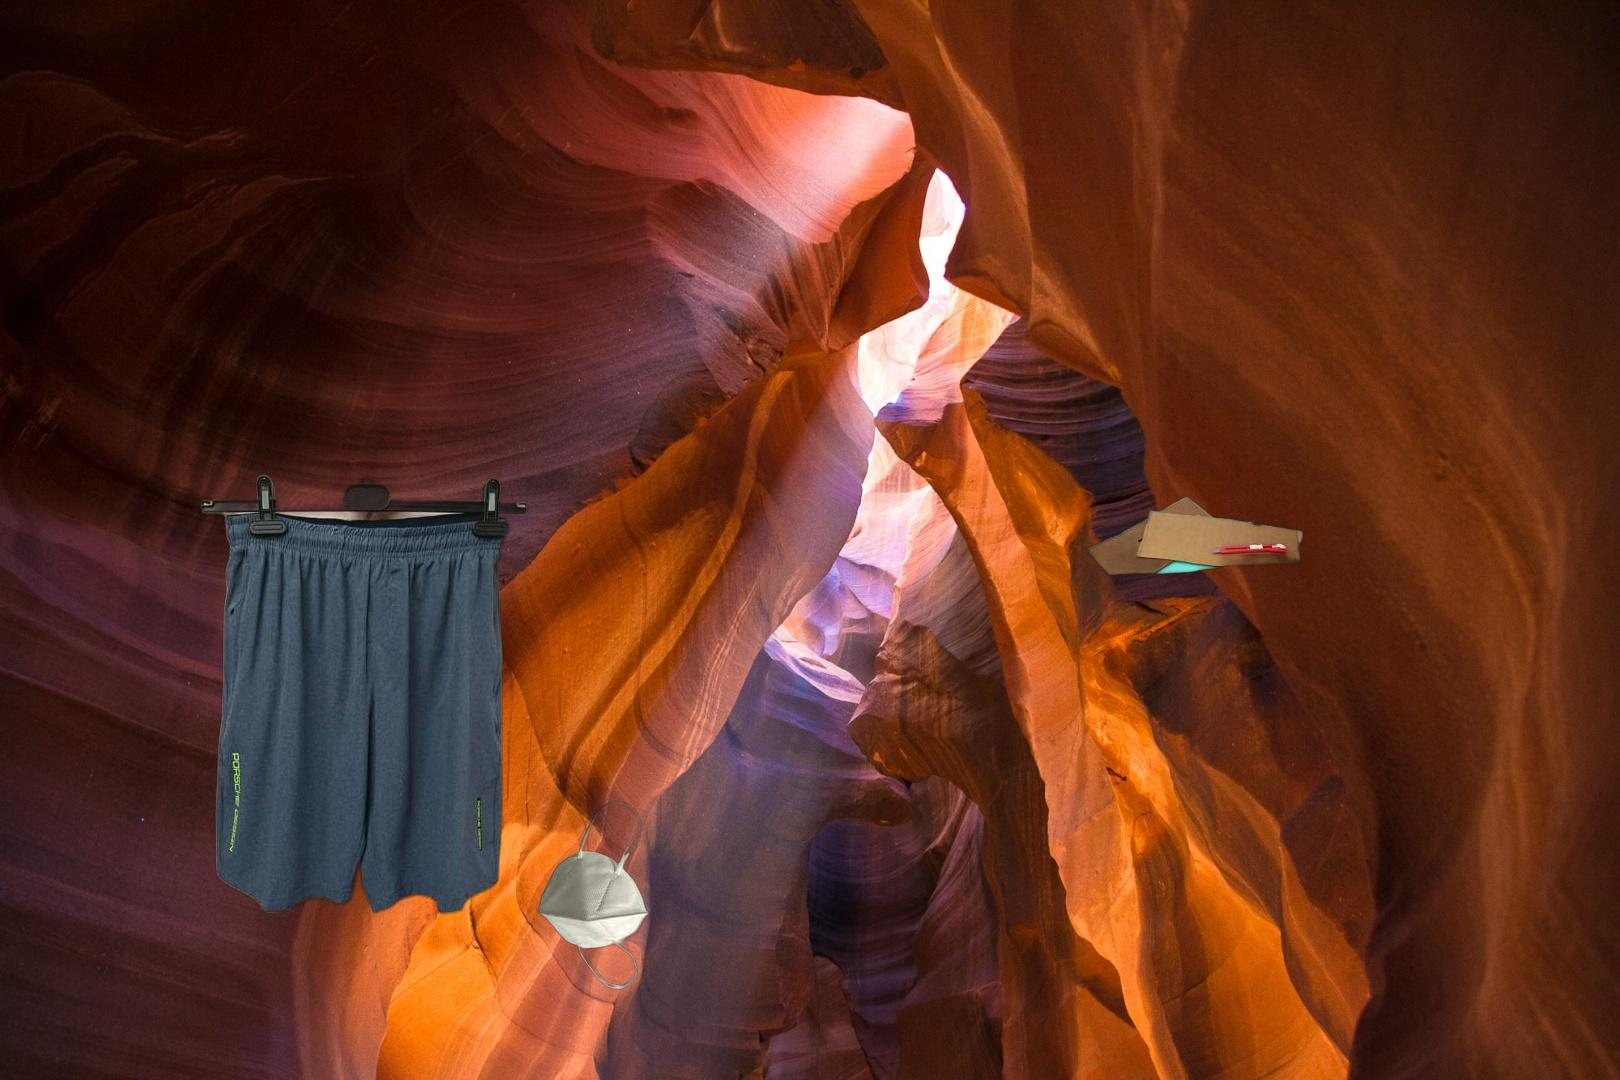clothes: (175, 372, 532, 920)
trash: (535, 799, 653, 992)
trashbox-cardboard: (1084, 486, 1305, 579)
